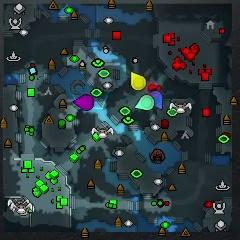p1: (149, 90, 163, 109)
p2: (135, 95, 154, 111)
p3: (73, 95, 94, 111)
p4: (130, 72, 146, 90)
